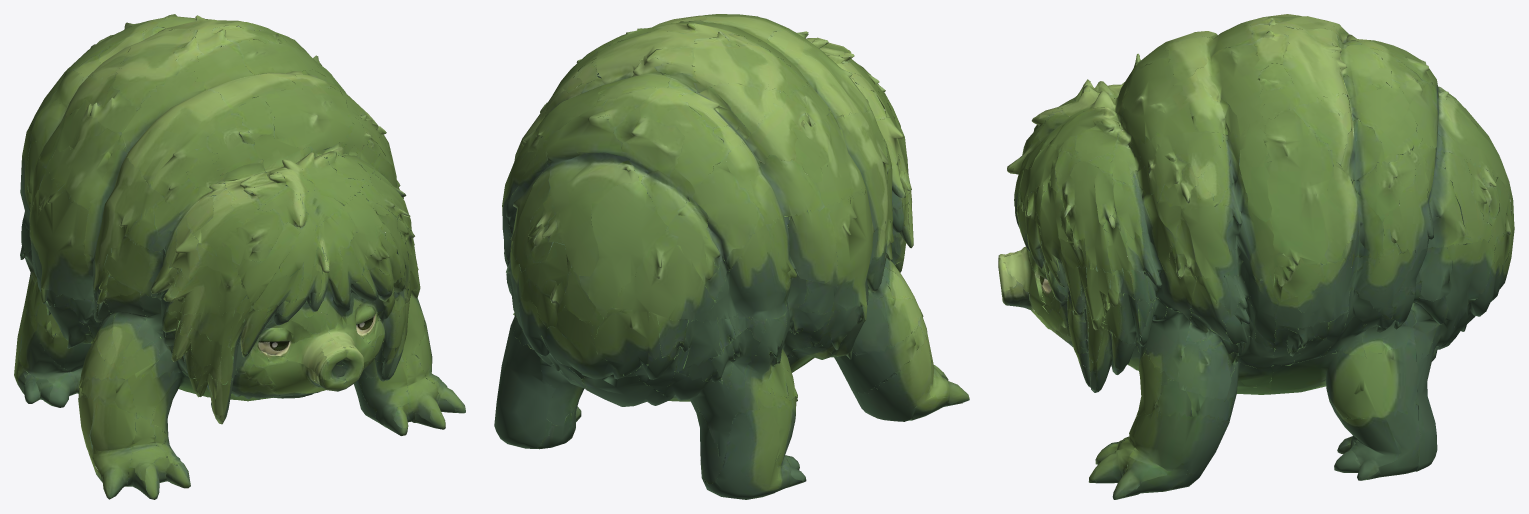
3 views of the same model, side by side, from view 1: azimuth 30°, elevation 25°; view 2: azimuth 150°, elevation 25°; view 3: azimuth 270°, elevation 25° (orthographic). The views are drawn at different scales.
Visible parts, largest first — view 1: Mesh_0; view 2: Mesh_0; view 3: Mesh_0.
Part boxes in pixels (bbox=[...]): Mesh_0: bbox=[14, 14, 465, 499]; Mesh_0: bbox=[494, 14, 969, 499]; Mesh_0: bbox=[998, 14, 1514, 499].
Bounding box in the file's own units: 1.59 × 1.56 × 1.9.
Materials: 1 (1 with a texture image).
